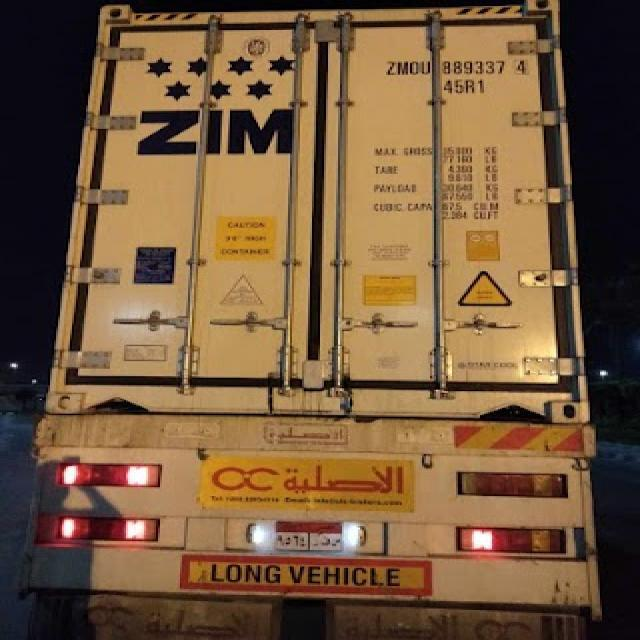ISO: (444, 76, 487, 96)
container_number: (388, 56, 522, 76)
